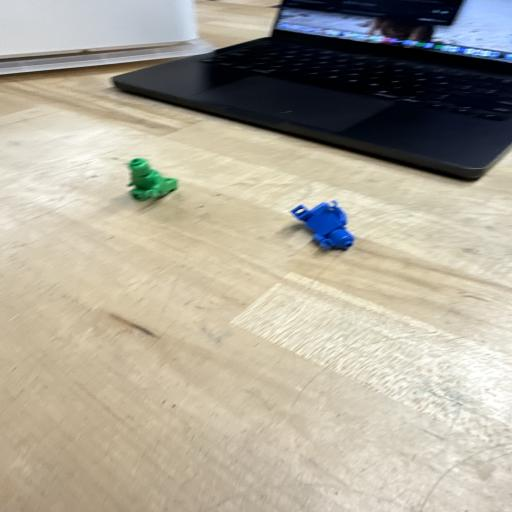blue-minifig: (291, 201, 354, 250)
green-minifig: (128, 158, 178, 201)
